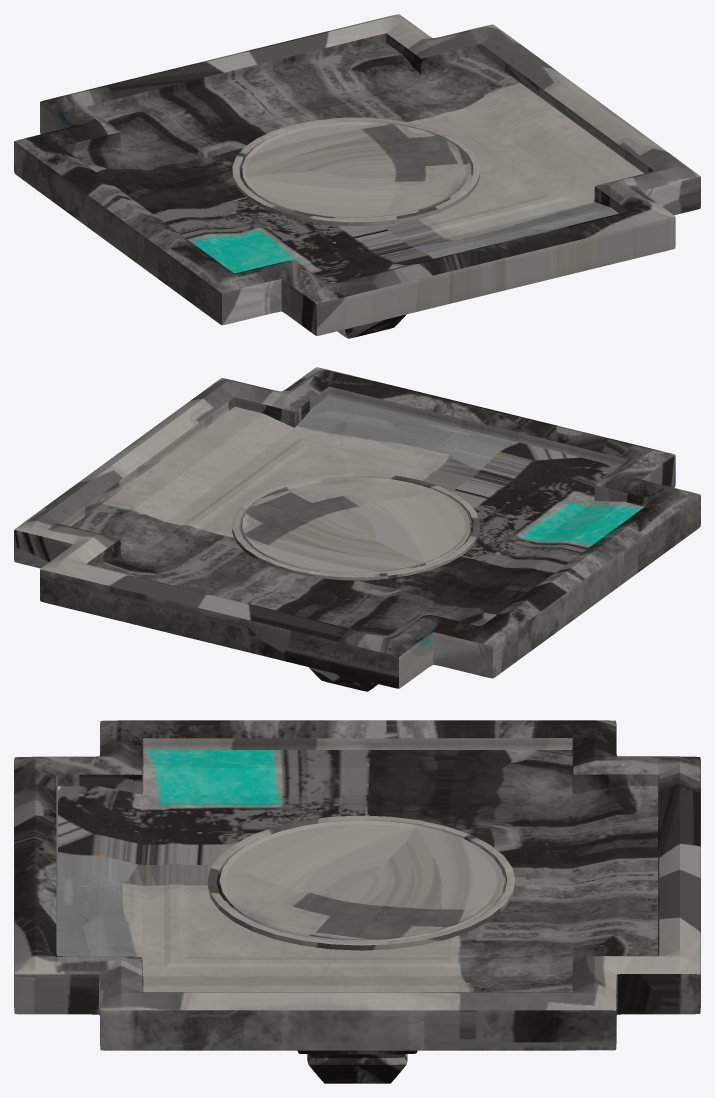
Rendered from PlataformaLvl1Texturing.fbx.
3 renders of one model, top to bottom at view 1: azimuth 30°, elevation 25°; view 2: azimuth 150°, elevation 25°; view 3: azimuth 270°, elevation 25°, orthographic. The views are drawn at different scales.
Parts seen in each view (by area): view 1: plataforma_1_001, plataforma_1_001.001; view 2: plataforma_1_001, plataforma_1_001.001; view 3: plataforma_1_001, plataforma_1_001.001.
Boxes of the visible parts, x1,y1,x2,y2 form: plataforma_1_001: (14, 14, 700, 338); plataforma_1_001.001: (232, 117, 479, 225); plataforma_1_001: (14, 367, 700, 691); plataforma_1_001.001: (232, 473, 479, 580); plataforma_1_001: (14, 720, 700, 1083); plataforma_1_001.001: (207, 815, 515, 950).
Bounding box in the file's own units: 5249 × 1800 × 5249.
